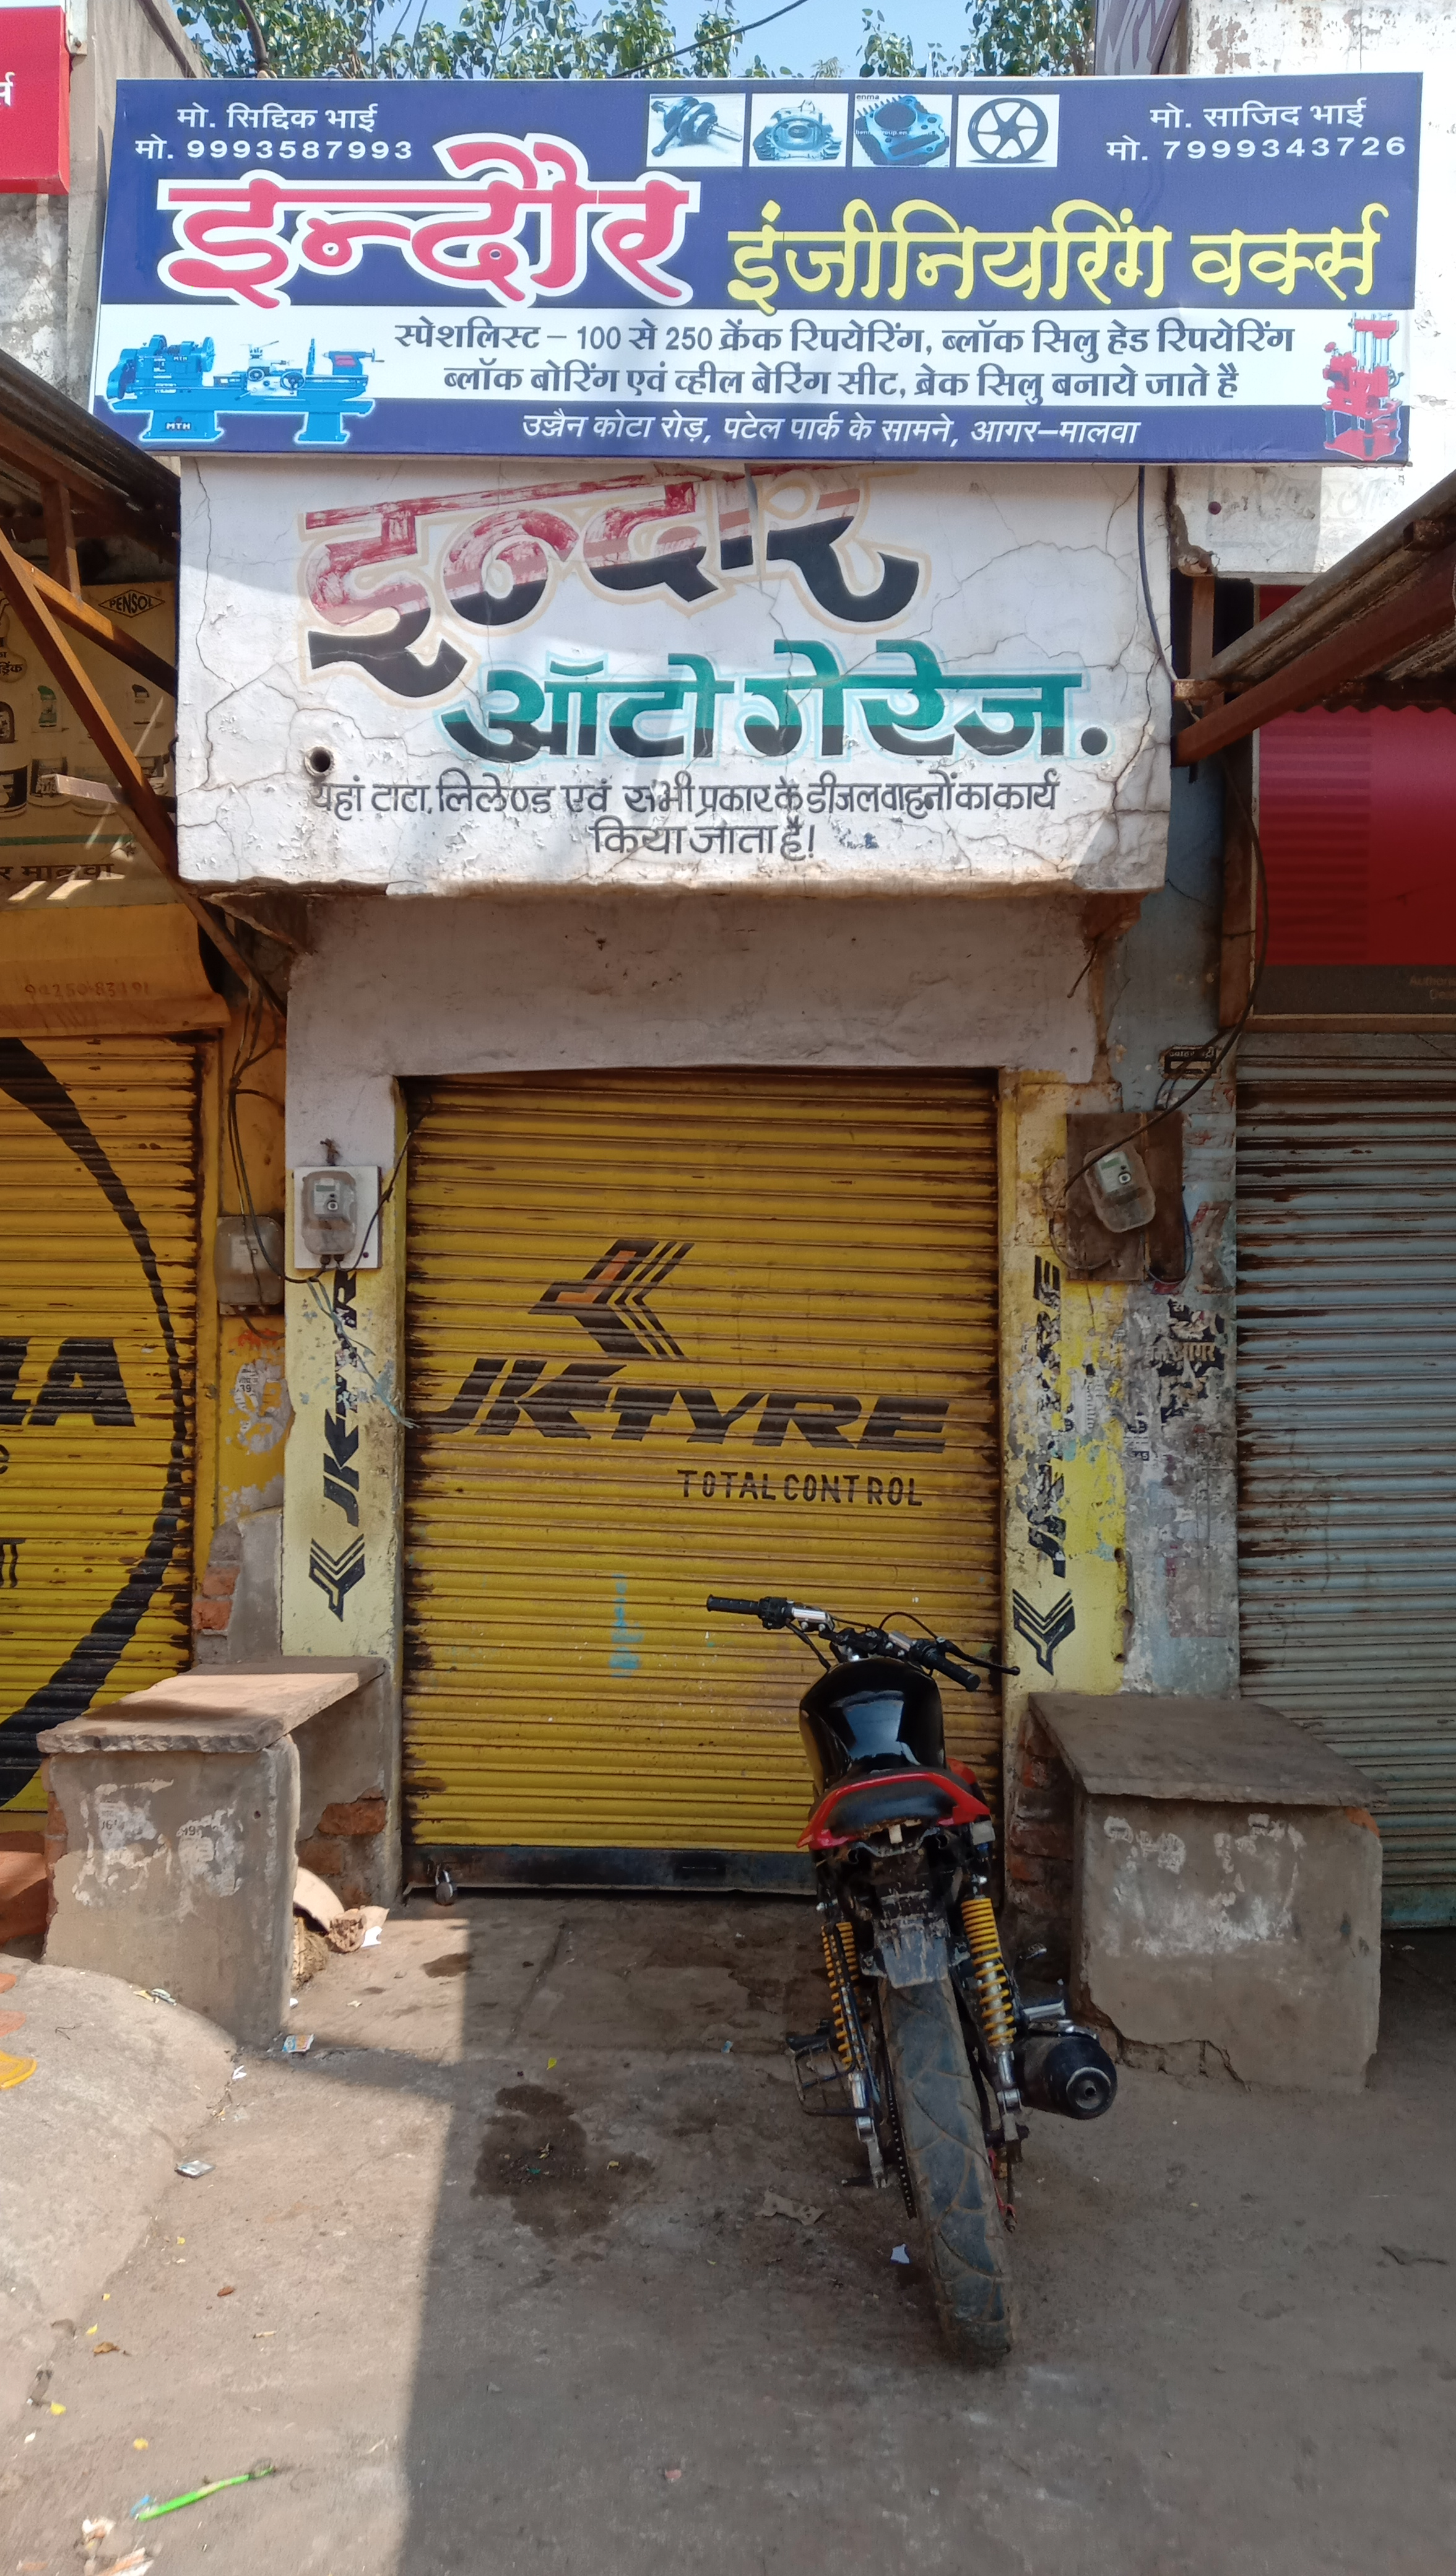text: (76, 67, 1438, 465), (159, 453, 1187, 902), (398, 1069, 1003, 1560)
